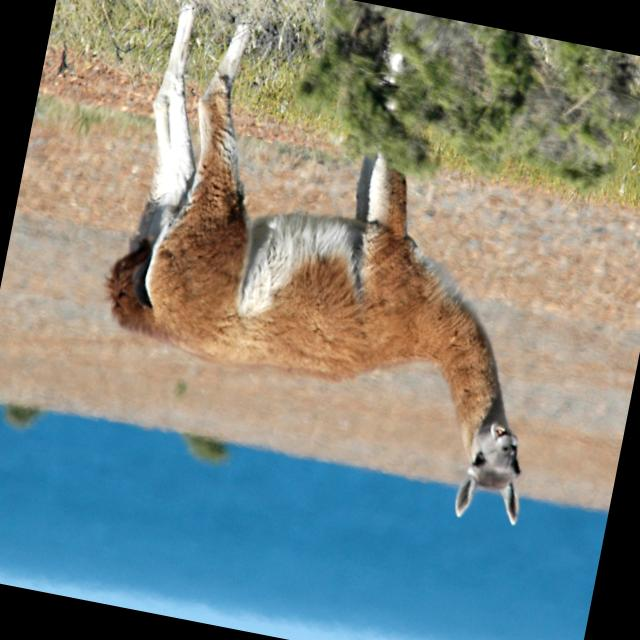alpaca: (78, 0, 608, 528)
